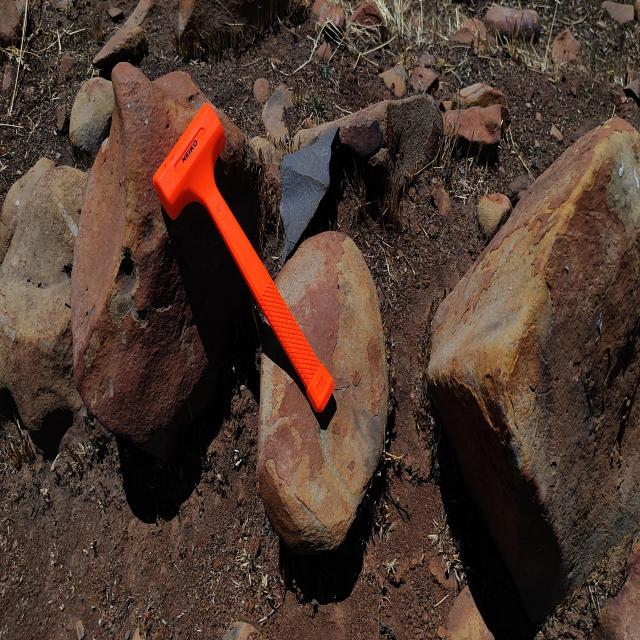Orange_hammer: (152, 101, 335, 416)
